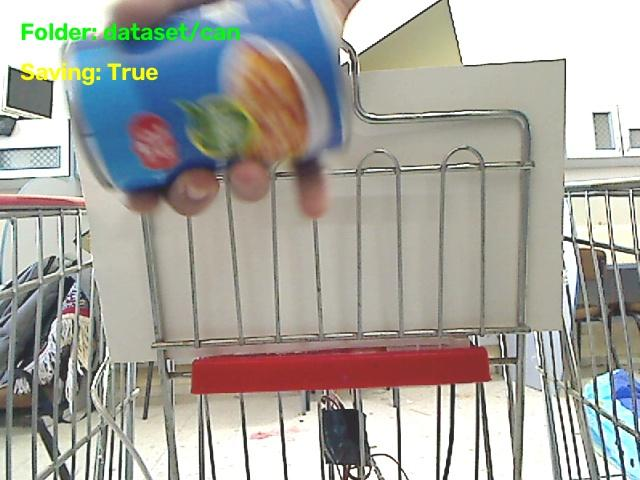can: (64, 0, 344, 191)
